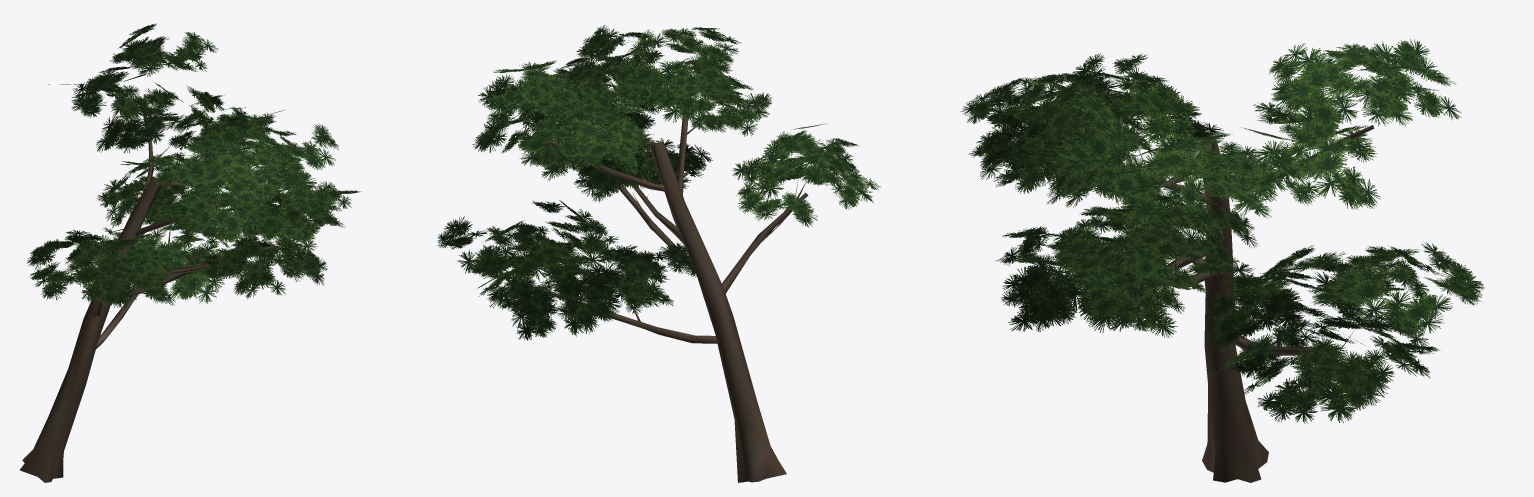
The model's file is landmark.glb.
The picture shows the model from 3 angles, left to right: view 1: azimuth 30°, elevation 25°; view 2: azimuth 150°, elevation 25°; view 3: azimuth 270°, elevation 25°; orthographic projection. The views are drawn at different scales.
Parts seen in each view (by area): view 1: Native forest foliage, Native forest structure; view 2: Native forest foliage, Native forest structure; view 3: Native forest foliage, Native forest structure.
Part boxes in pixels (x1=…): Native forest foliage: x1=26, y1=23, x2=361, y2=307; Native forest structure: x1=20, y1=94, x2=275, y2=482; Native forest foliage: x1=437, y1=25, x2=880, y2=340; Native forest structure: x1=543, y1=112, x2=808, y2=482; Native forest foliage: x1=960, y1=39, x2=1484, y2=423; Native forest structure: x1=1106, y1=125, x2=1374, y2=482.
Bounding box in the file's own units: 2.97 × 2.95 × 2.85.
2 materials, 1 textured.
